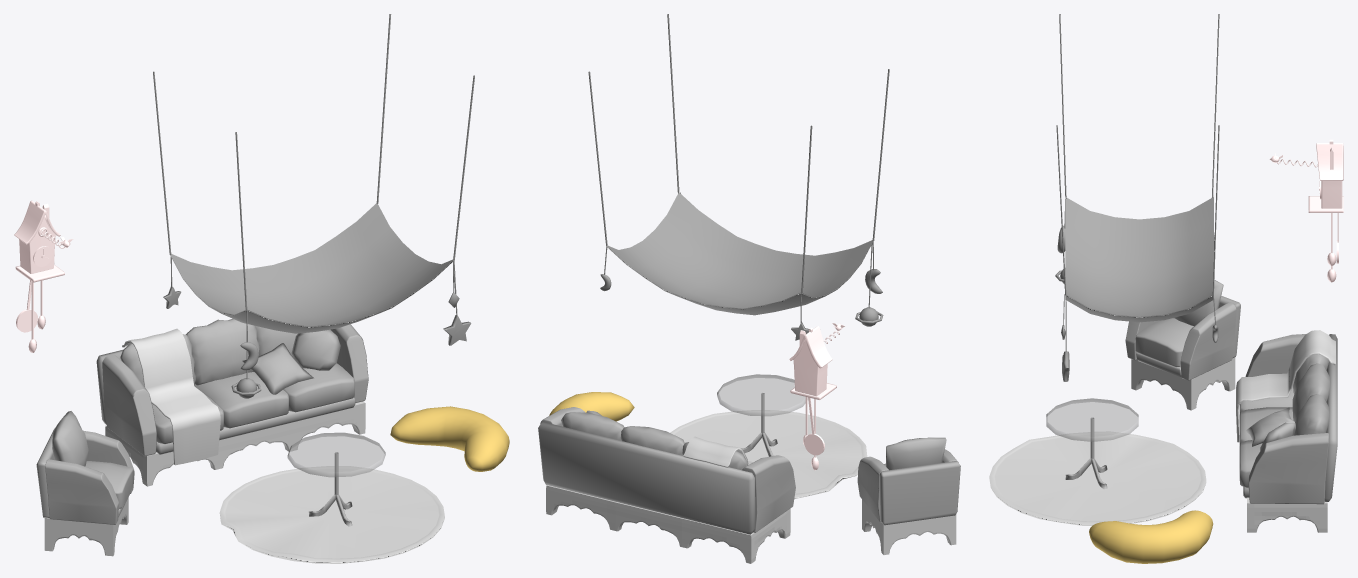
File: fireplace_all_furniture_together.fbx
3 renders of one model, left to right at view 1: azimuth 30°, elevation 25°; view 2: azimuth 150°, elevation 25°; view 3: azimuth 270°, elevation 25°, orthographic. The views are drawn at different scales.
Visible parts, largest first — view 1: sofa, fireplace_blanket, fireplace_horoscope_carpet, fireplace_armchair, crescent_lowpoly, fireplace_glass_table, clock1; view 2: sofa, fireplace_blanket, fireplace_armchair, fireplace_horoscope_carpet, fireplace_glass_table, clock1, crescent_lowpoly; view 3: sofa, fireplace_blanket, fireplace_horoscope_carpet, fireplace_armchair, crescent_lowpoly, fireplace_glass_table, clock1.
Part boxes in pixels (x1,y1,x2,y2): sofa: (96, 318, 368, 486); fireplace_blanket: (153, 14, 474, 398); fireplace_horoscope_carpet: (219, 466, 444, 563); fireplace_armchair: (36, 411, 134, 556); crescent_lowpoly: (390, 406, 509, 471); fireplace_glass_table: (287, 432, 385, 526); clock1: (14, 200, 73, 352); sofa: (538, 407, 795, 563); fireplace_blanket: (588, 14, 889, 340); fireplace_armchair: (857, 437, 960, 554); fireplace_horoscope_carpet: (670, 410, 867, 498); fireplace_glass_table: (717, 374, 807, 456); clock1: (789, 323, 845, 470); crescent_lowpoly: (549, 392, 634, 421); sofa: (1236, 330, 1337, 532); fireplace_blanket: (1055, 14, 1219, 381); fireplace_horoscope_carpet: (989, 431, 1206, 525); fireplace_armchair: (1125, 279, 1240, 410); crescent_lowpoly: (1089, 510, 1213, 563); fireplace_glass_table: (1046, 398, 1138, 489); clock1: (1269, 139, 1343, 282).
Bounding box in the file's own units: 4.79 × 4.4 × 3.41.
